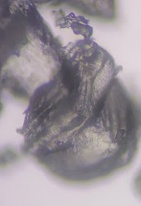microplastic: (14, 36, 123, 156), (29, 77, 139, 182), (1, 1, 79, 111), (36, 1, 116, 21), (50, 7, 94, 38), (1, 145, 20, 166), (133, 168, 141, 197)
